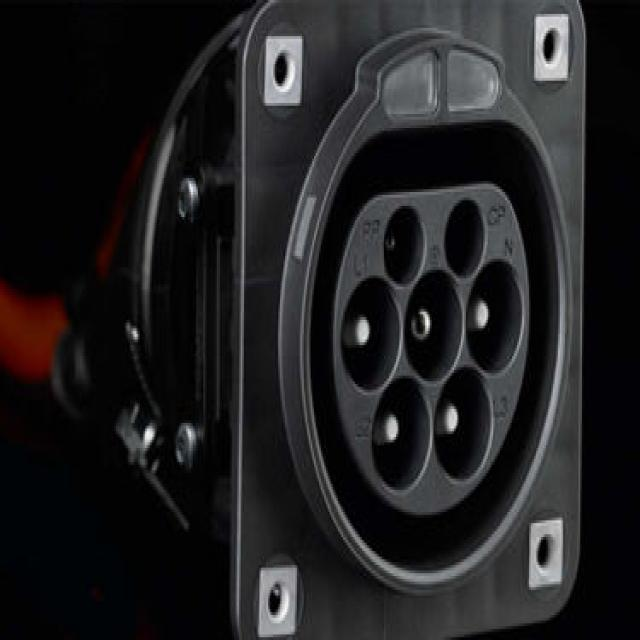inlet: (333, 184, 529, 515)
inlet-above-left: (384, 205, 424, 286)
inlet-above-right: (444, 199, 484, 279)
inlet-below-left: (371, 375, 430, 490)
inlet-below-right: (434, 366, 491, 482)
inlet-circle: (404, 268, 462, 382)
inlet-circle-left: (340, 275, 400, 391)
inlet-circle-right: (466, 259, 522, 374)
